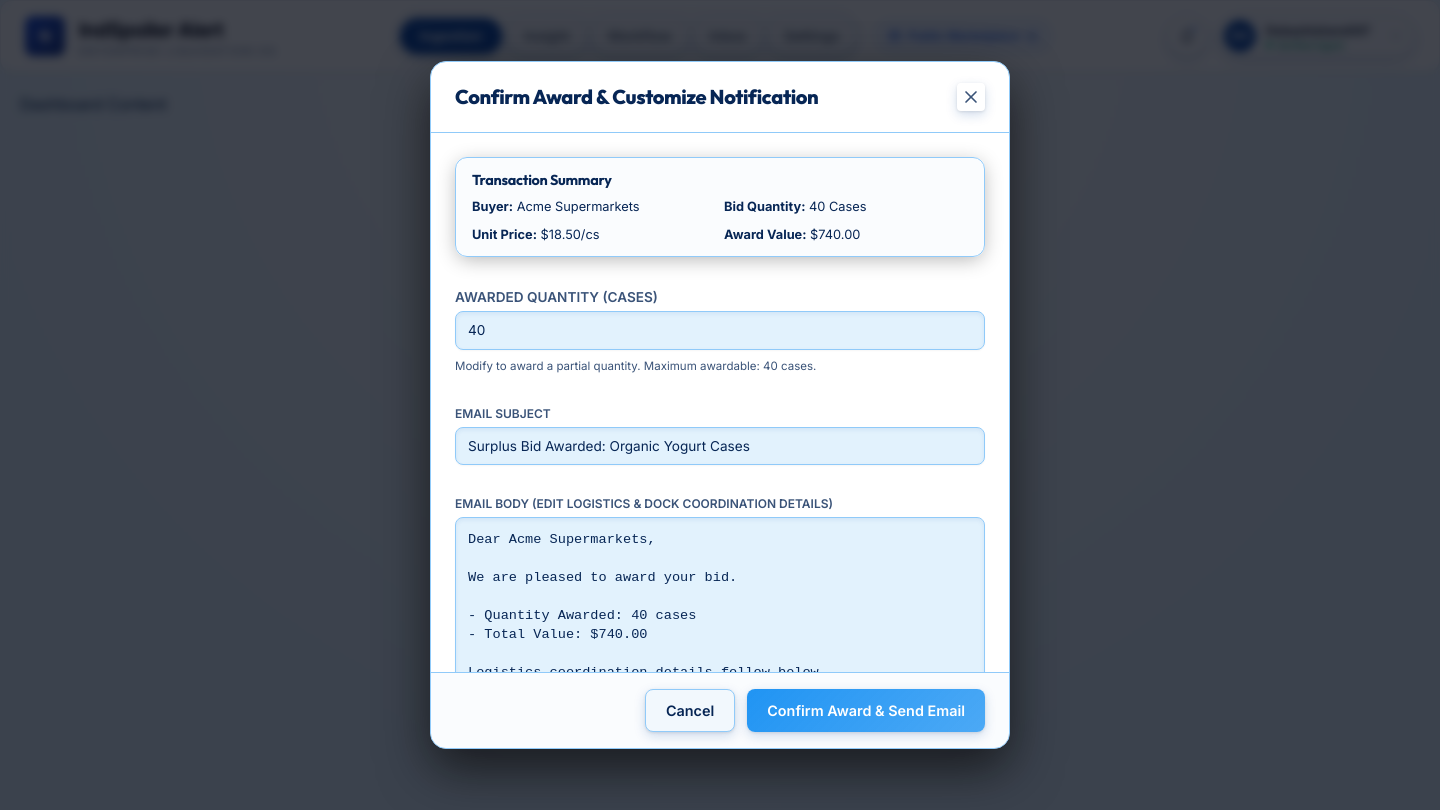
Test: Issue #38 Tracer Bullet 4: GlobalModals & Cross-Domain Modal Triggering › should render GlobalModals inside AppShell, open AwardModal via action, and transition to EmailSentVisualizer on confirm
Expected: the heading "Confirm Award & Customize Notification" is shown, top-left (455, 82), bottom-right (818, 112)
// Confirm award
Click the button "Confirm Award & Send Email" at (866, 710), box top-left (747, 689), bottom-right (985, 732)
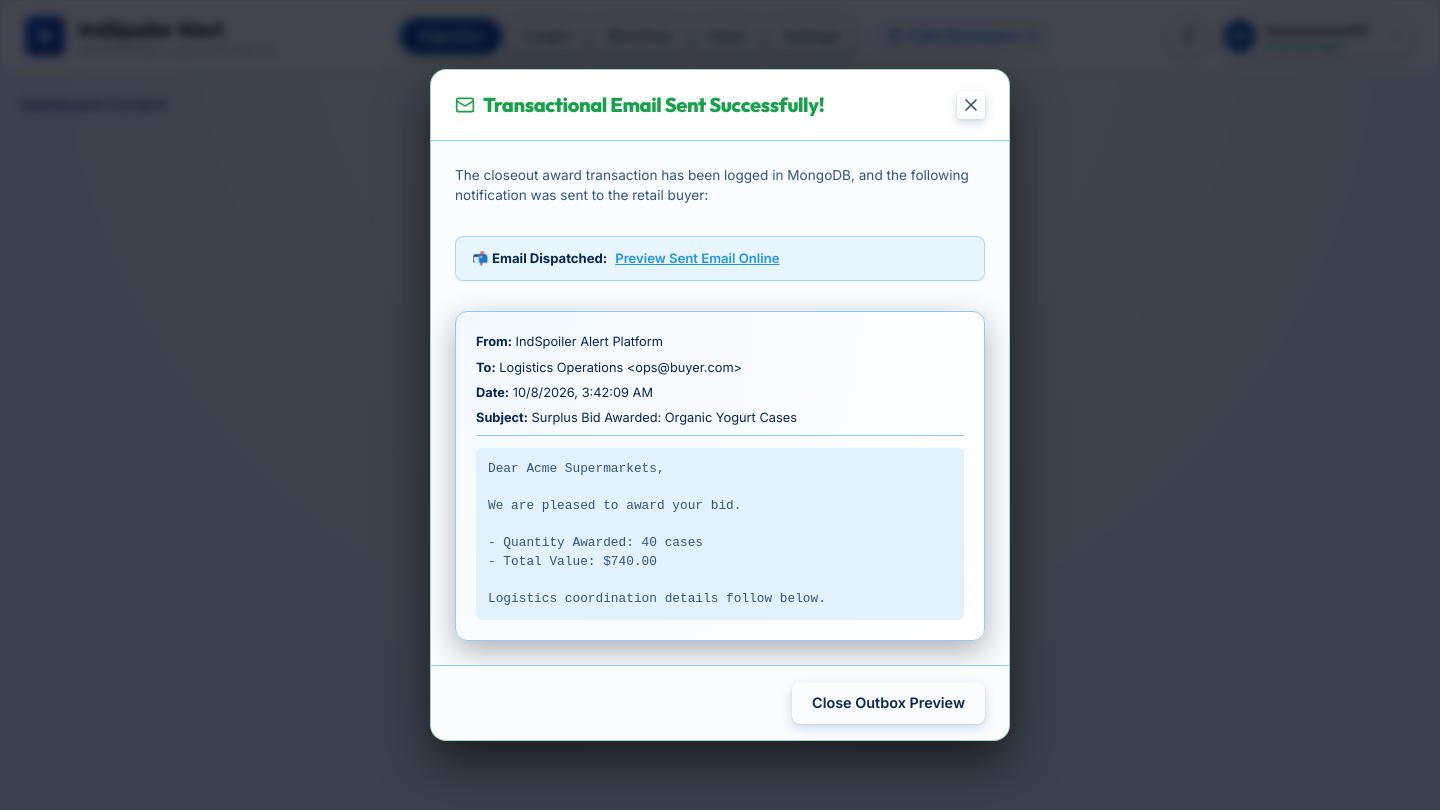
Result: the heading "Confirm Award & Customize Notification" is gone
Result: the heading "Transactional Email Sent Successfully!" is shown at top-left (483, 90), bottom-right (824, 120)
Result: the text "Email Dispatched:" is shown at top-left (492, 250), bottom-right (607, 266)
